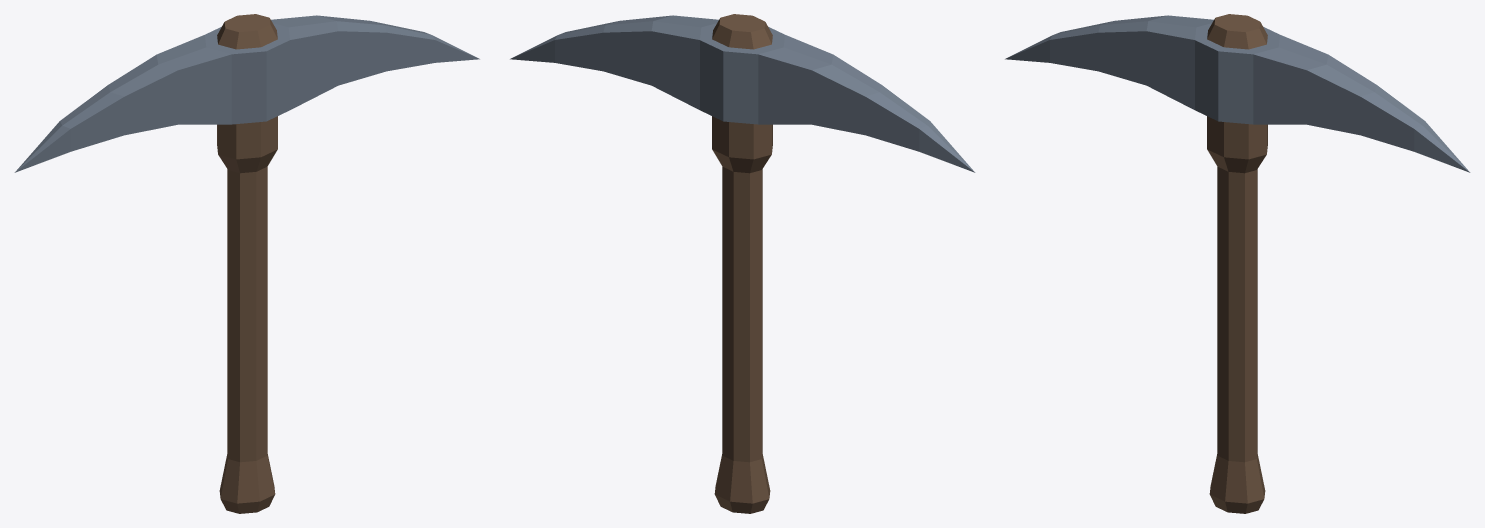
File: Pickaxe.FBX
3 renders of one model, left to right at view 1: azimuth 30°, elevation 25°; view 2: azimuth 150°, elevation 25°; view 3: azimuth 330°, elevation 25°, orthographic.
Parts seen in each view (by area): view 1: Pickaxe; view 2: Pickaxe; view 3: Pickaxe.
Boxes of the visible parts, x1,y1,x2,y2 form: Pickaxe: (14,14,479,513); Pickaxe: (510,14,975,513); Pickaxe: (1005,14,1470,513).
Bounding box in the file's own units: 0.7927 × 0.7832 × 0.112.
